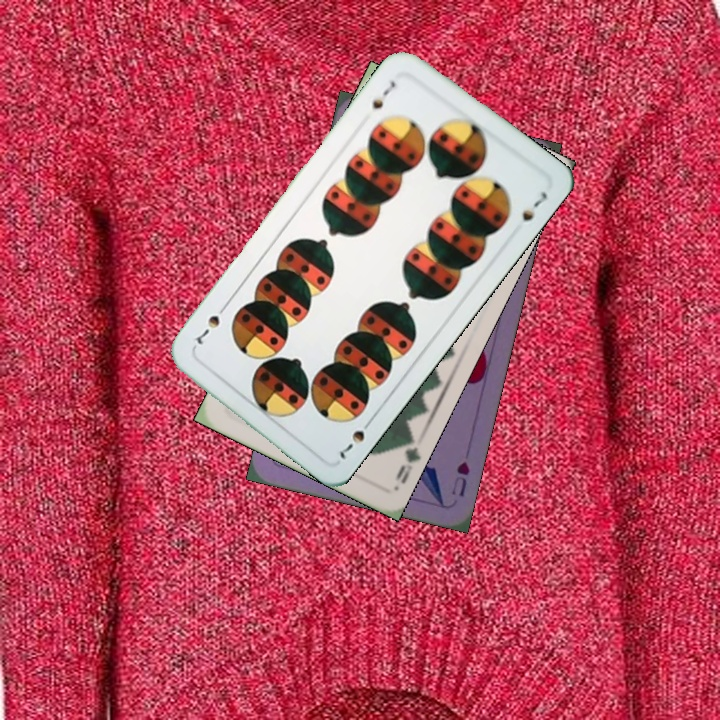G9: (391, 432, 422, 487)
HU: (447, 458, 473, 500)
S7: (335, 414, 376, 463), (368, 77, 399, 112)
